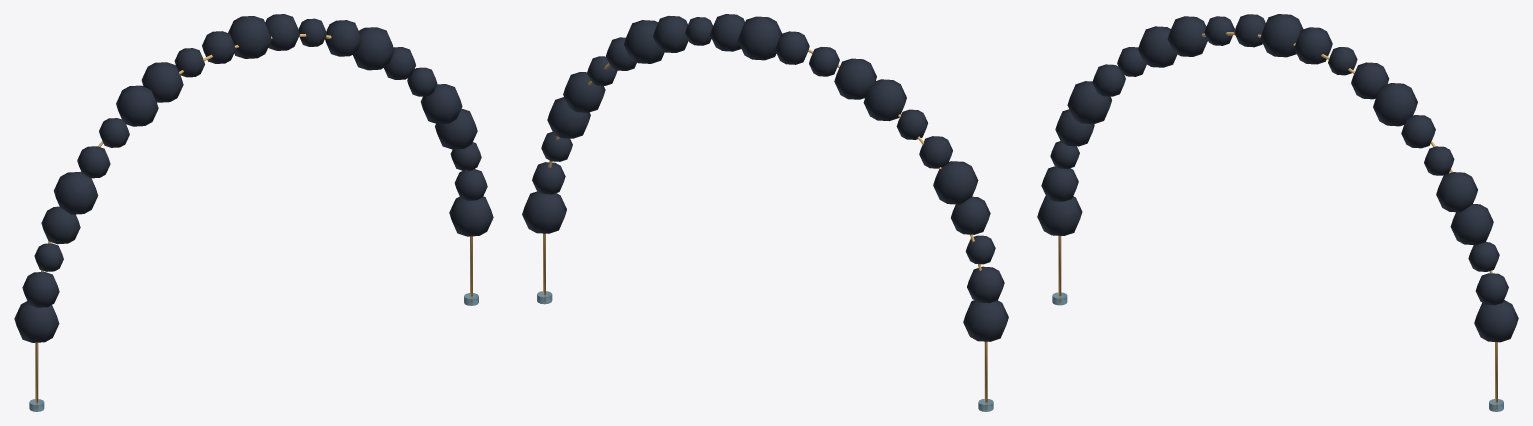
File: threshold-bubble-arch-c-lod1.glb
3 views of the same model, side by side, from view 1: azimuth 30°, elevation 25°; view 2: azimuth 150°, elevation 25°; view 3: azimuth 330°, elevation 25° (orthographic).
Visible parts, largest first — view 1: frame; view 2: frame; view 3: frame.
Part boxes in pixels (bbox=[...]): frame: bbox=[14, 14, 493, 411]; frame: bbox=[522, 14, 1008, 411]; frame: bbox=[1037, 14, 1518, 411].
Size of the model in its own units: 17.59 by 11.89 by 2.08.
